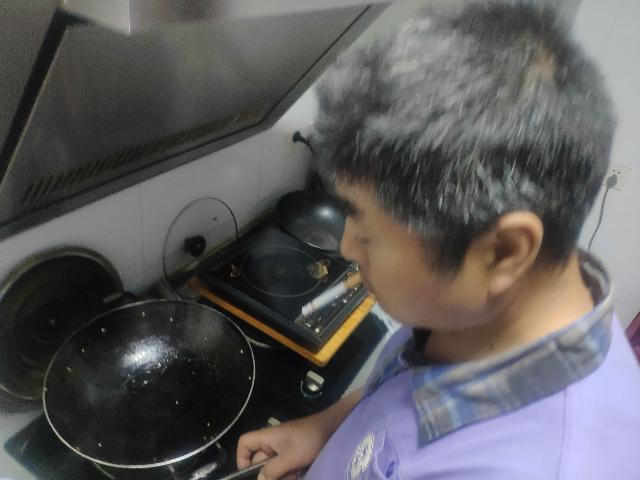Smoking: (302, 272, 364, 318)
